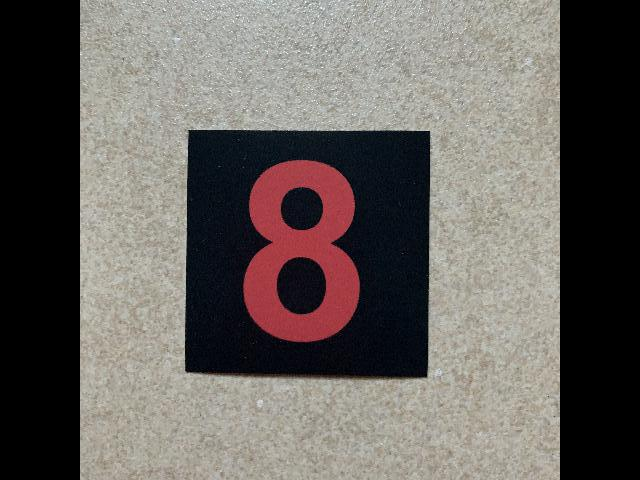eight: (185, 128, 431, 380)
